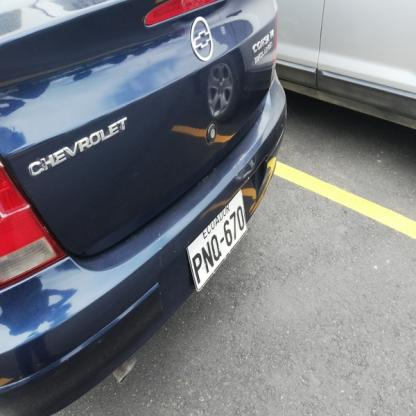Placa: (181, 182, 254, 294)
